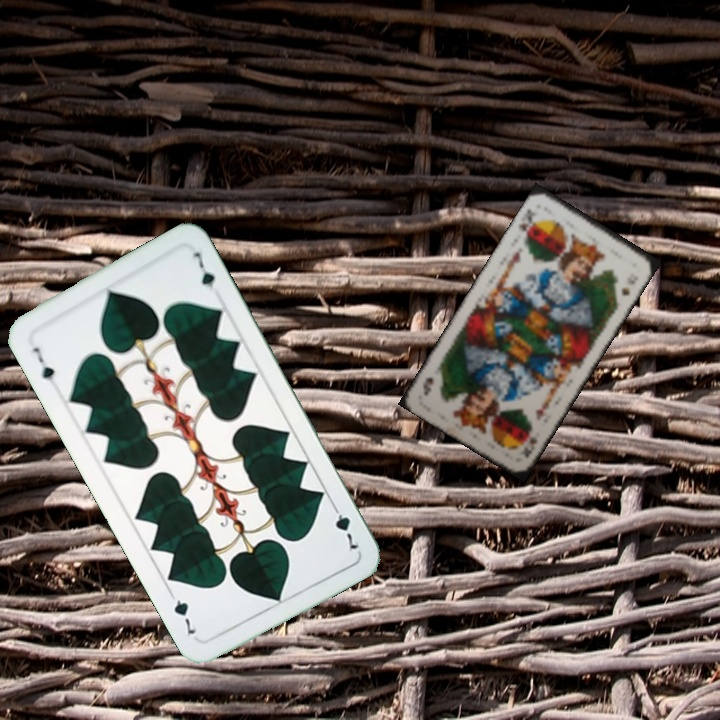G7: (327, 499, 362, 554), (28, 343, 57, 384)
SK: (515, 204, 538, 241), (517, 433, 540, 460)
